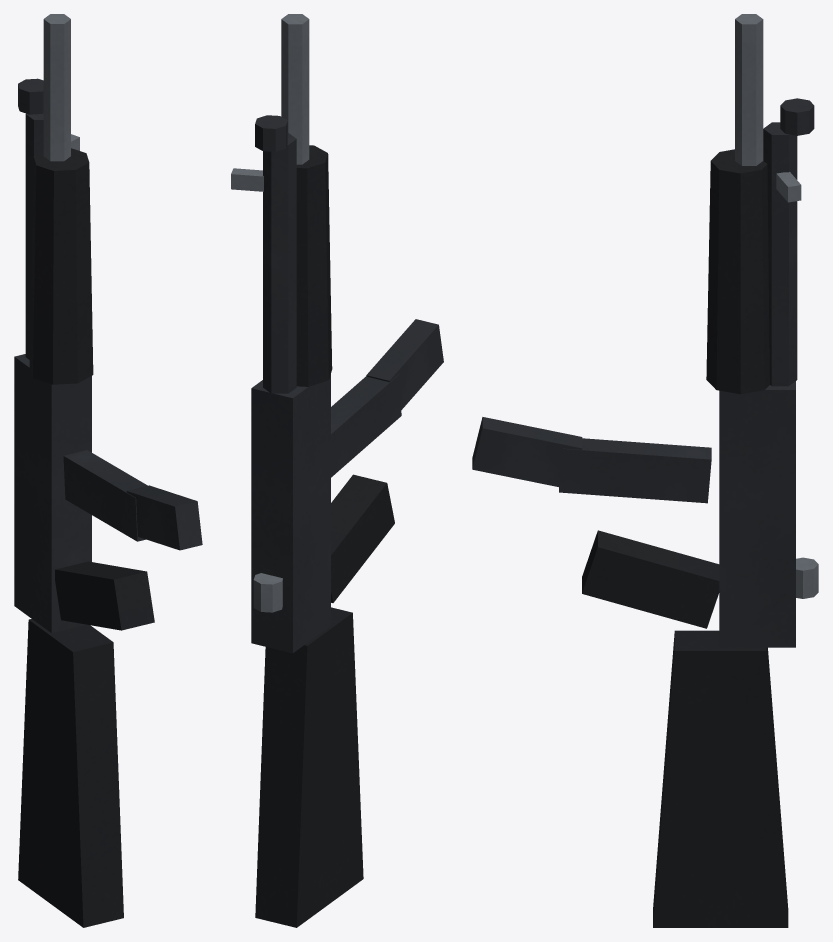
File: weapon_smg.glb
3 renders of one model, left to right at view 1: azimuth 30°, elevation 25°; view 2: azimuth 150°, elevation 25°; view 3: azimuth 270°, elevation 25°, orthographic. The views are drawn at different scales.
Parts seen in each view (by area): view 1: Weapon_SMG; view 2: Weapon_SMG; view 3: Weapon_SMG.
Part boxes in pixels (box(x1,y1,x2,y2)): Weapon_SMG: box(14, 14, 202, 927); Weapon_SMG: box(231, 14, 443, 927); Weapon_SMG: box(472, 14, 818, 927).
Size of the model in its own units: 0.059 by 0.6975 by 0.2437.
Materials: 3 (3 with a texture image).
